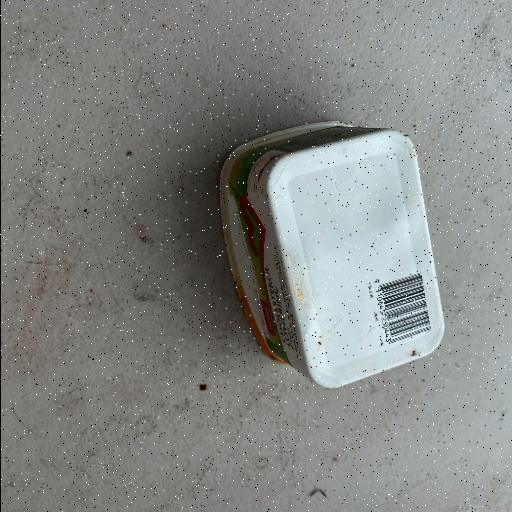Plastic: (215, 117, 447, 391)
